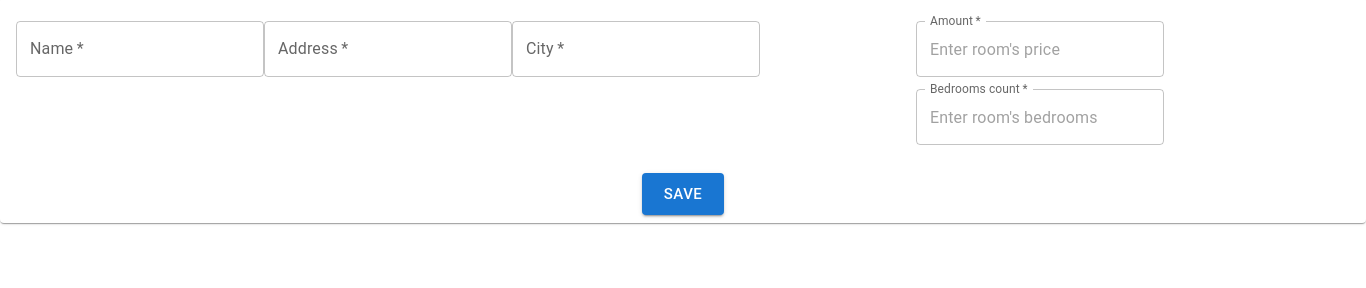
New Room component › has name must be of length 2 to 255
Step 1. Type "D" into the field labelled "Name *" → (140, 49), box [16, 21, 264, 77]
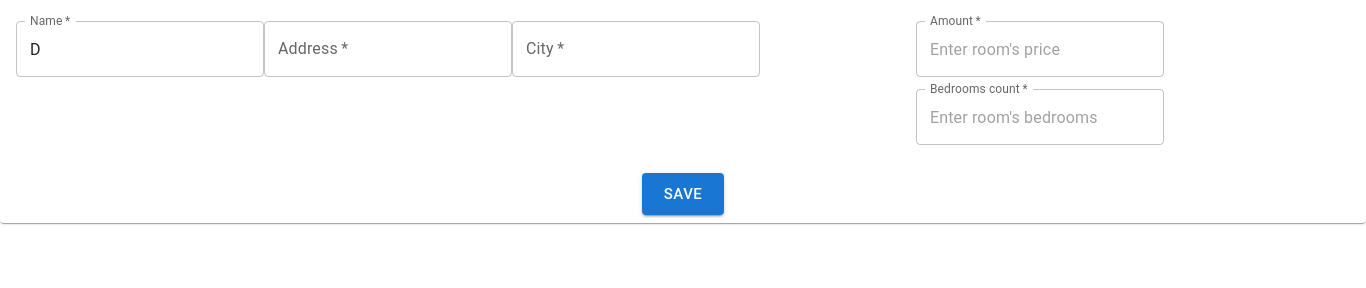
Step 2. Click the button "save" → (683, 194), box [642, 173, 724, 215]
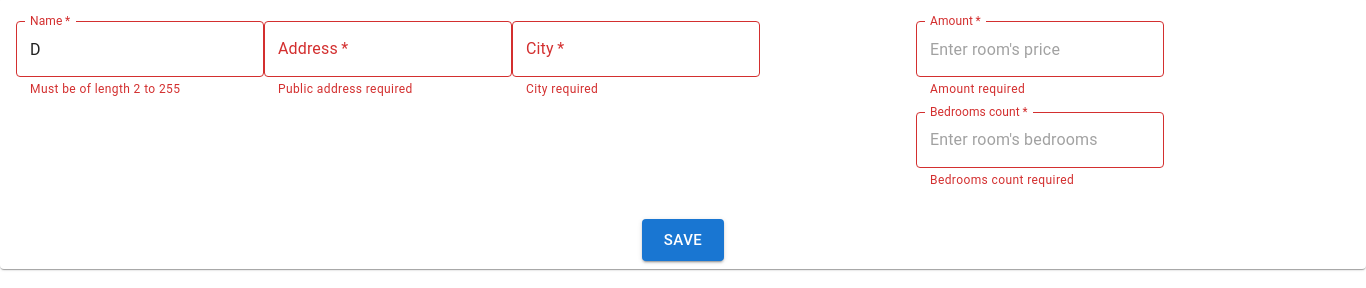
Check: the text "Must be of length 2 to 255" is shown, box [30, 82, 180, 96]
